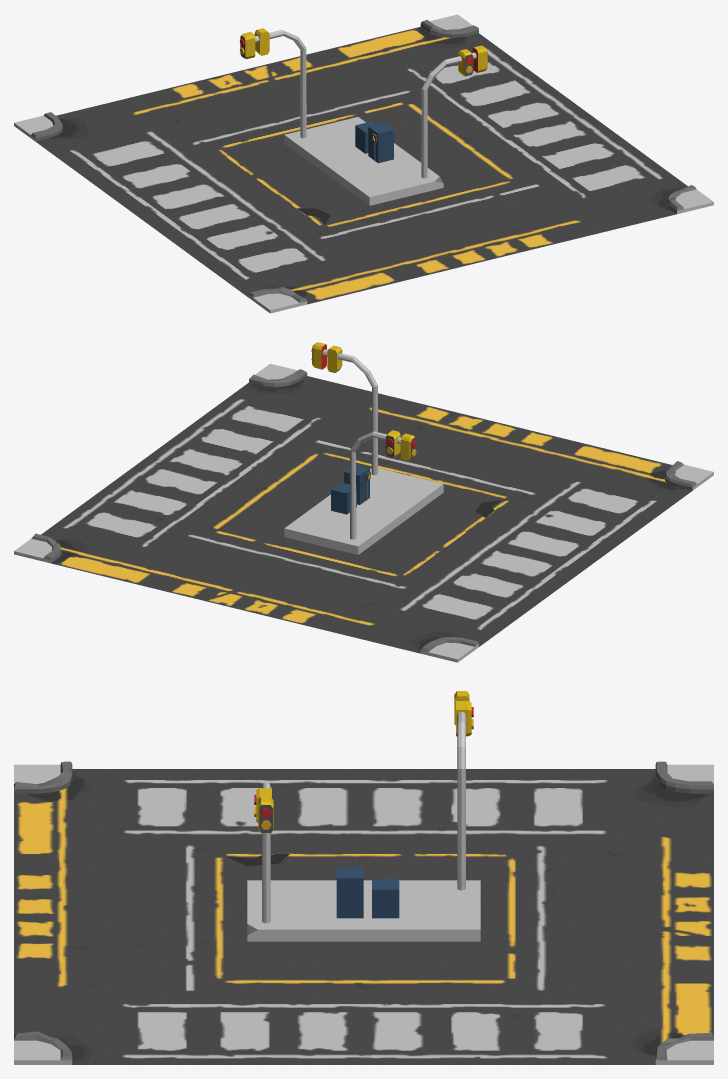
Rendered from Highway_Crossway_A.fbx.
3 views of the same model, one above another, from view 1: azimuth 30°, elevation 25°; view 2: azimuth 150°, elevation 25°; view 3: azimuth 270°, elevation 25° (orthographic). The views are drawn at different scales.
Parts seen in each view (by area): view 1: Highway_Crossway_A; view 2: Highway_Crossway_A; view 3: Highway_Crossway_A.
Boxes of the visible parts, left/top/right/bottom form: Highway_Crossway_A: left=14, top=14, right=713, bottom=313; Highway_Crossway_A: left=14, top=342, right=713, bottom=662; Highway_Crossway_A: left=14, top=691, right=713, bottom=1064.
Size of the model in its own units: 2400 by 653 by 2400.
